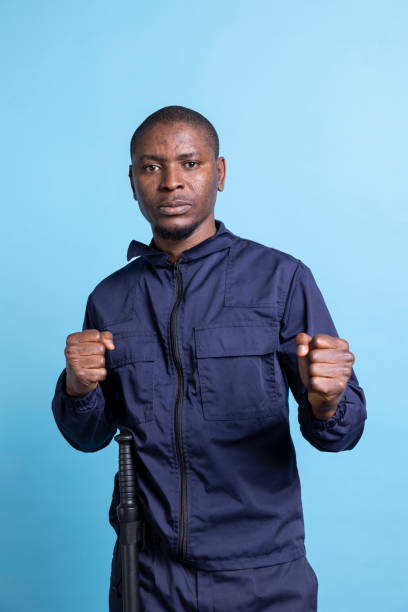Yes: (291, 326, 368, 424), (58, 322, 124, 404)
